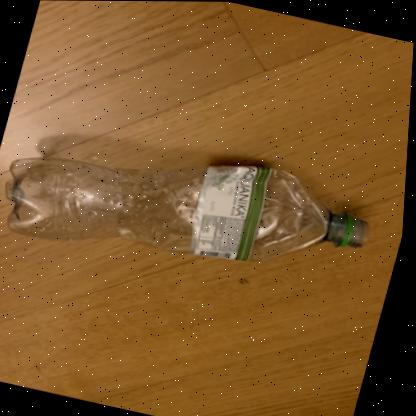Plastic: (7, 158, 368, 260)
